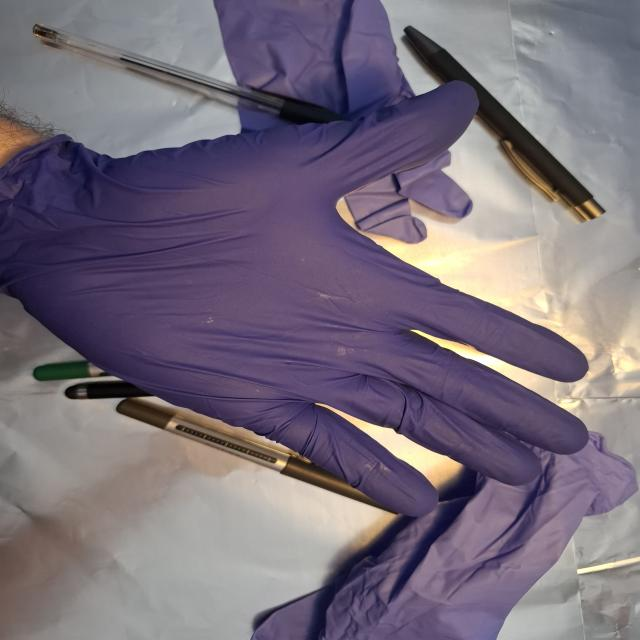glove_on: (6, 79, 598, 524)
